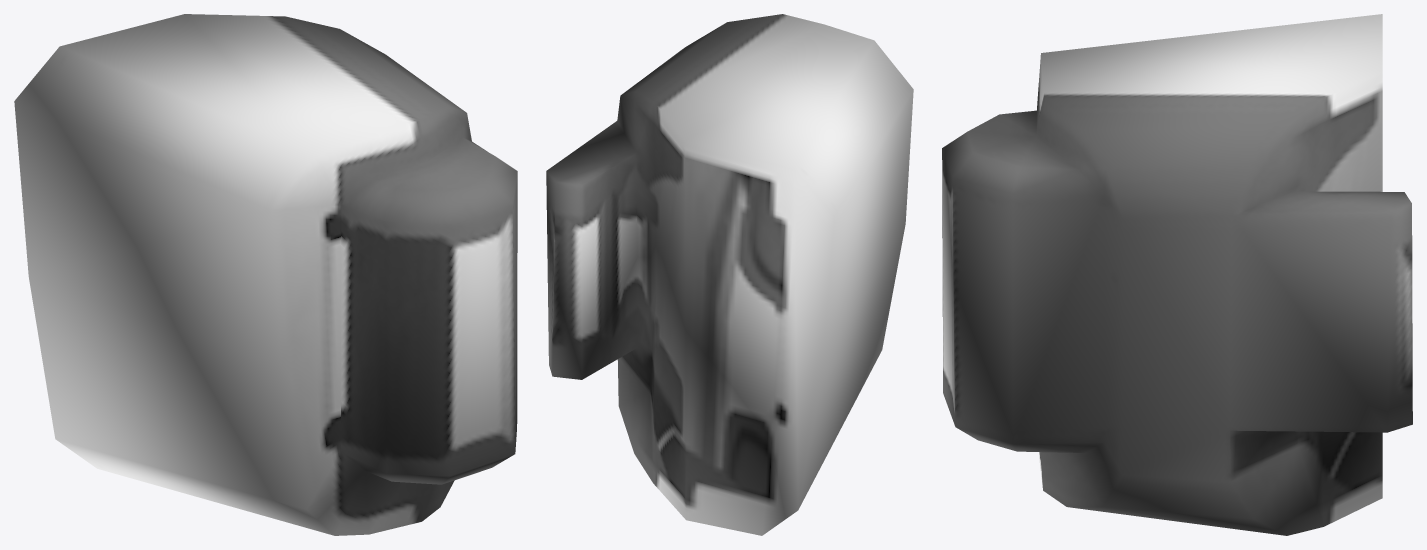
The model's file is hand_finger_2.dae.
3 renders of one model, left to right at view 1: azimuth 30°, elevation 25°; view 2: azimuth 150°, elevation 25°; view 3: azimuth 270°, elevation 25°, orthographic. The views are drawn at different scales.
Visible parts, largest first — view 1: default; view 2: default; view 3: default.
Boxes of the visible parts, <box> form: default: <box>14,14,517,535</box>; default: <box>546,14,913,535</box>; default: <box>942,14,1412,535</box>.
Size of the model in its own units: 0.028 by 0.0356 by 0.036.
1 material, 1 textured.
